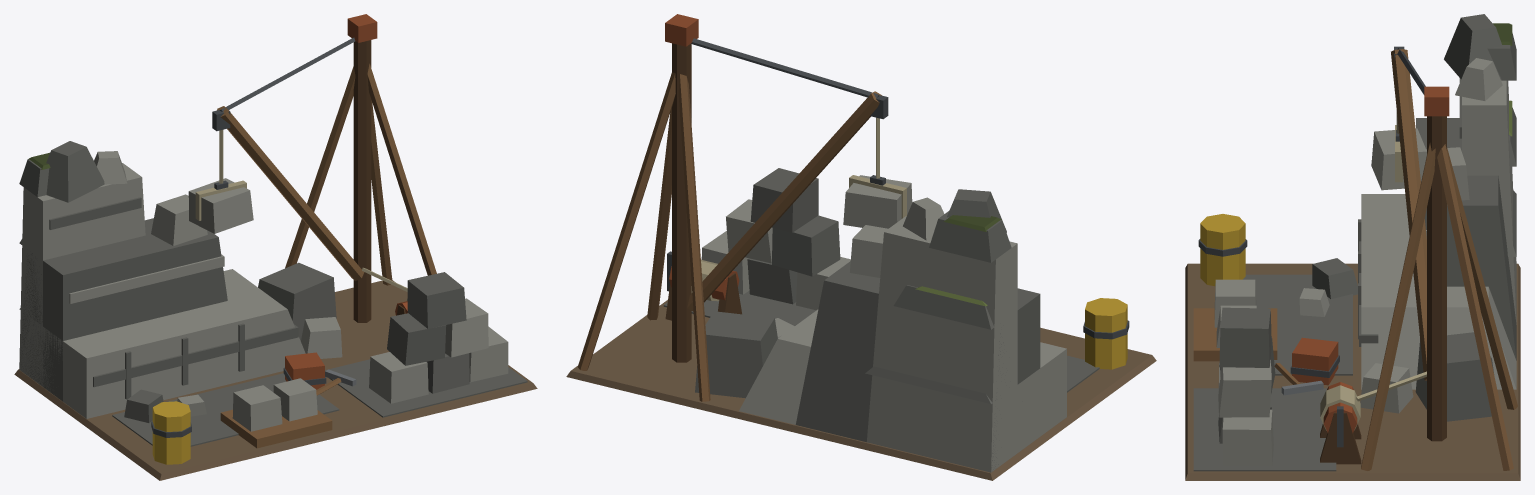
The model's file is quarry_l1.glb.
3 views of the same model, side by side, from view 1: azimuth 30°, elevation 25°; view 2: azimuth 150°, elevation 25°; view 3: azimuth 270°, elevation 25° (orthographic). The views are drawn at different scales.
Parts seen in each view (by area): view 1: quarry_rock, quarry_derrick, quarry_props; view 2: quarry_rock, quarry_derrick, quarry_props; view 3: quarry_derrick, quarry_rock, quarry_props.
Part boxes in pixels (x1,y1,x2,y2): quarry_rock: [19, 141, 342, 422]; quarry_derrick: [14, 14, 537, 480]; quarry_props: [151, 110, 508, 464]; quarry_rock: [695, 189, 1066, 472]; quarry_derrick: [566, 14, 1156, 480]; quarry_props: [665, 95, 1129, 369]; quarry_derrick: [1185, 48, 1520, 480]; quarry_rock: [1299, 14, 1516, 421]; quarry_props: [1193, 46, 1426, 466].
Size of the model in its own units: 6 by 4.62 by 4.
